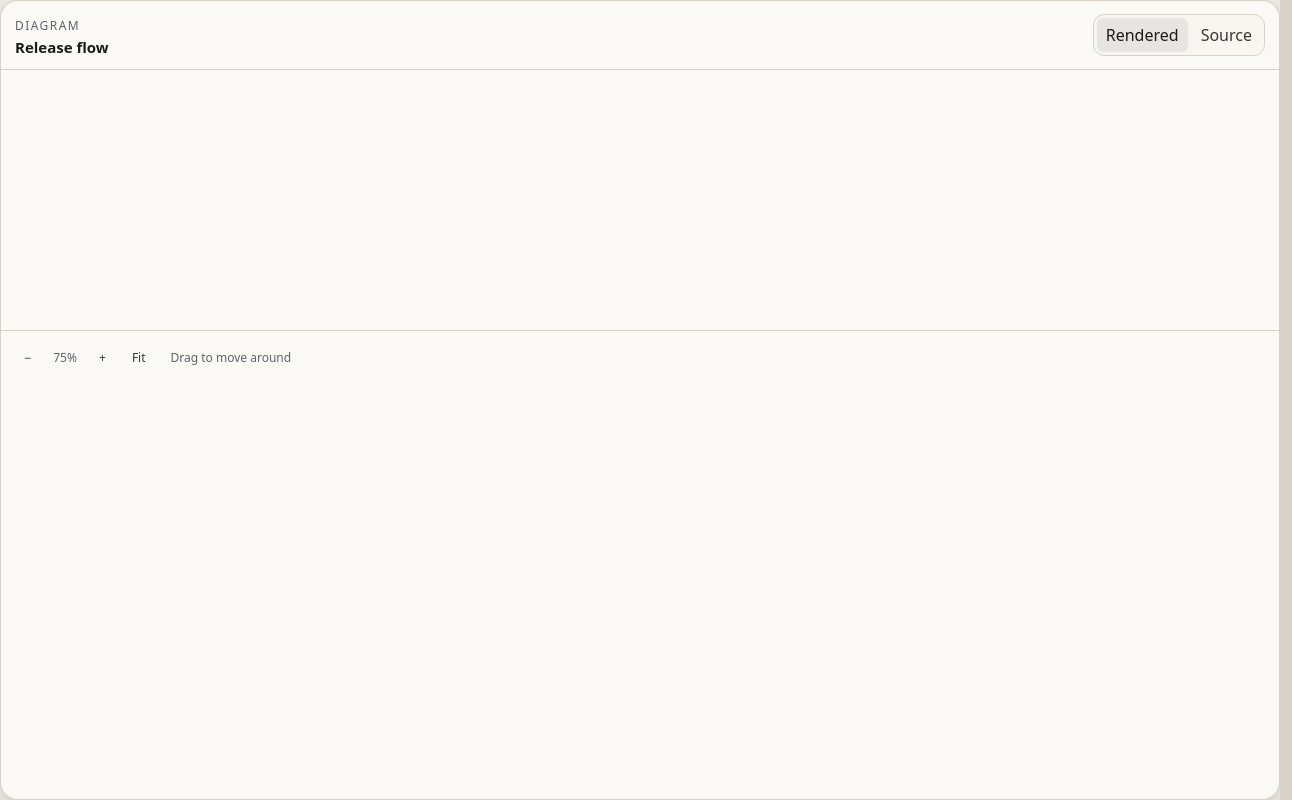
Test: TaskViewCard › in a frame 640px wide › opens a long drawing at a readable size and fits it whole on request
Expected: the text "75%" is shown, [53,349,77,366]
Expected: the text "Drag to move around" is shown, [170,349,291,366]
Step 1. Click the button "Fit" → (139, 358), box [123,343,155,372]
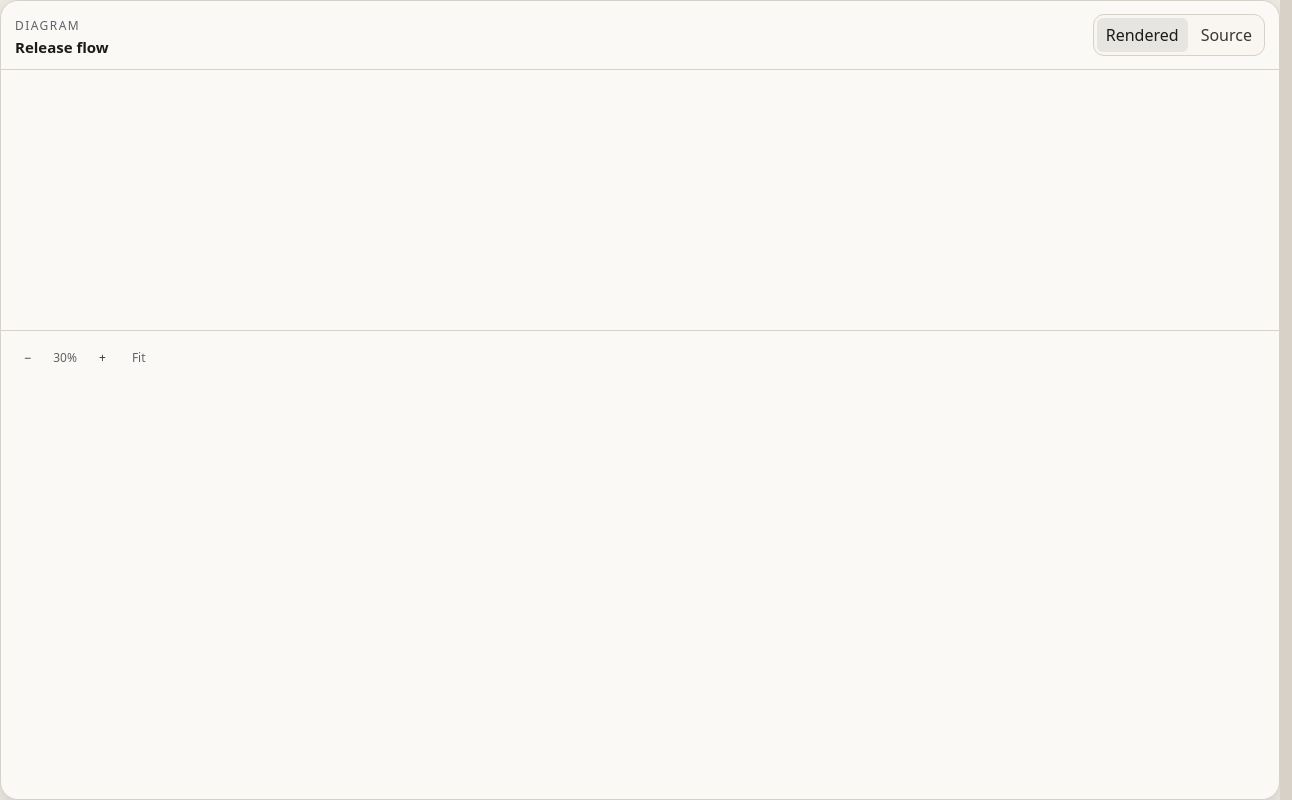
Now the text "30%" is shown, box [53,349,77,366]
Now the text "Drag to move around" is gone
Now the button "Fit" is disabled, box [123,343,155,372]
Step 2. Click the button named "Zoom in" → (102, 358), box [90,343,115,372]
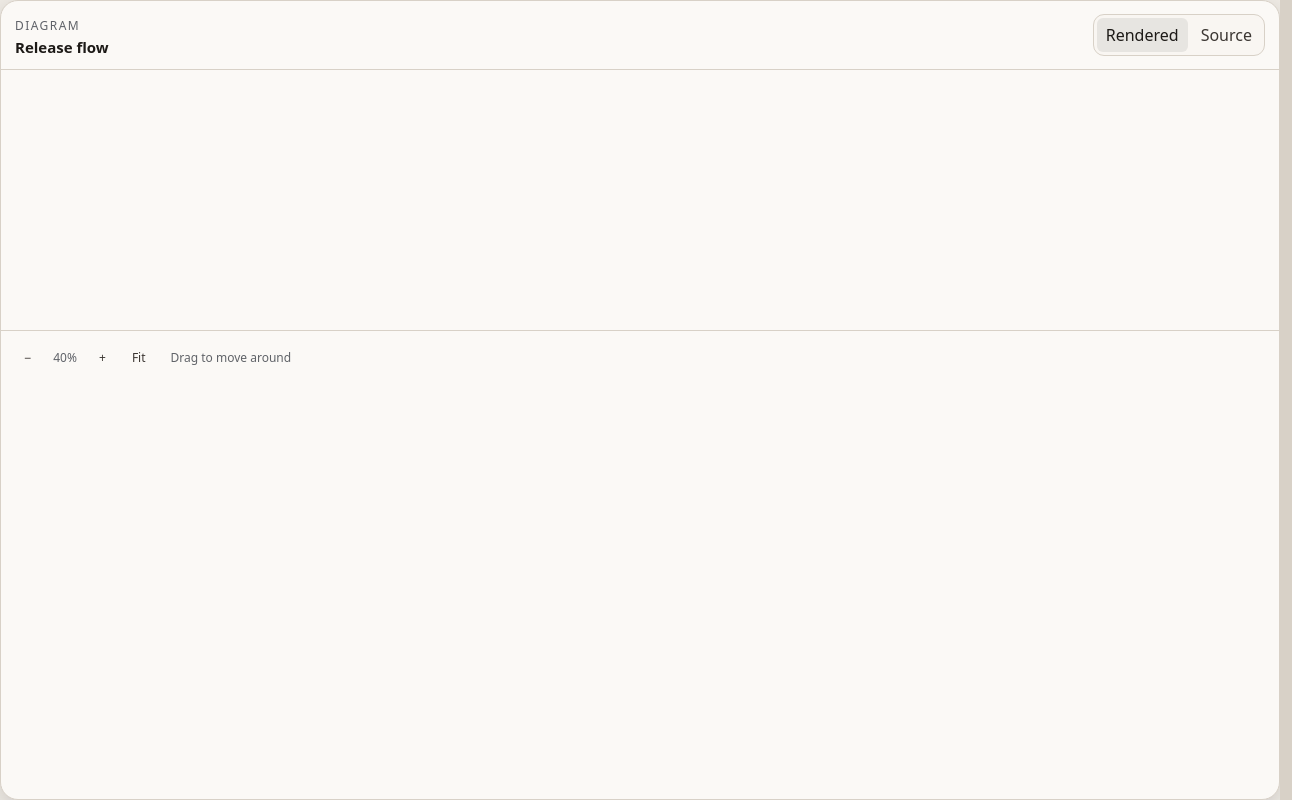
Now the text "40%" is shown, box [53,349,77,366]
